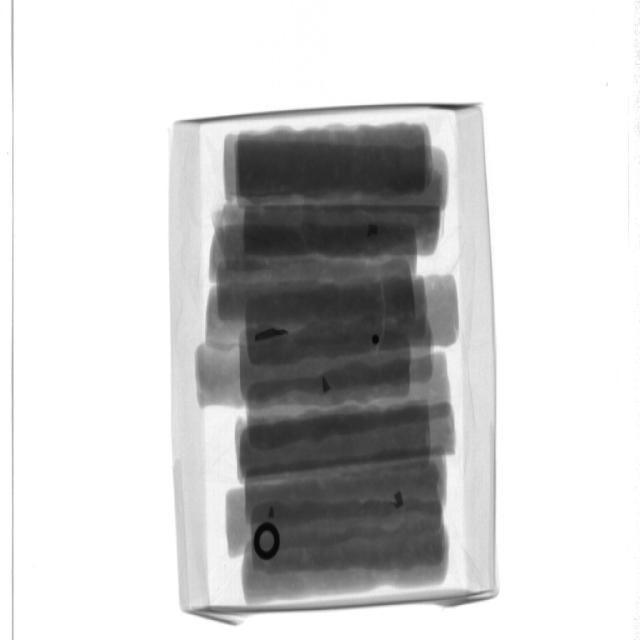ym: (255, 521, 281, 561), (256, 326, 291, 339), (394, 492, 404, 508), (367, 226, 379, 239), (323, 378, 332, 395), (269, 503, 277, 521), (372, 336, 380, 346)
